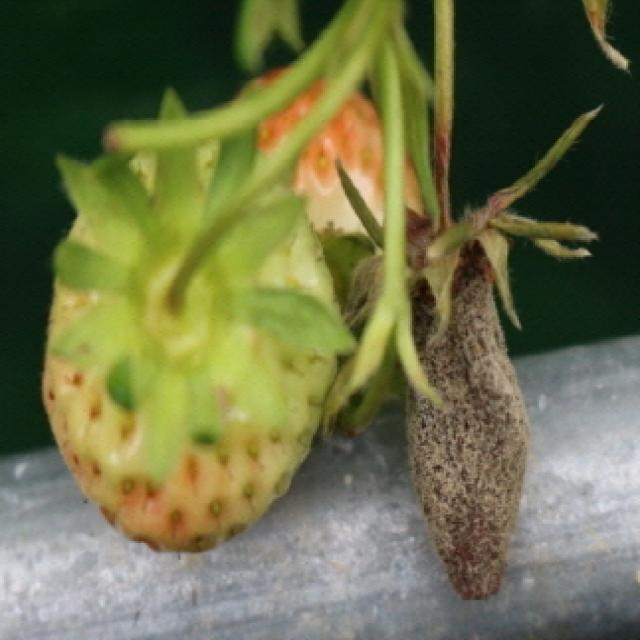Gray Mold: (403, 216, 531, 603)
